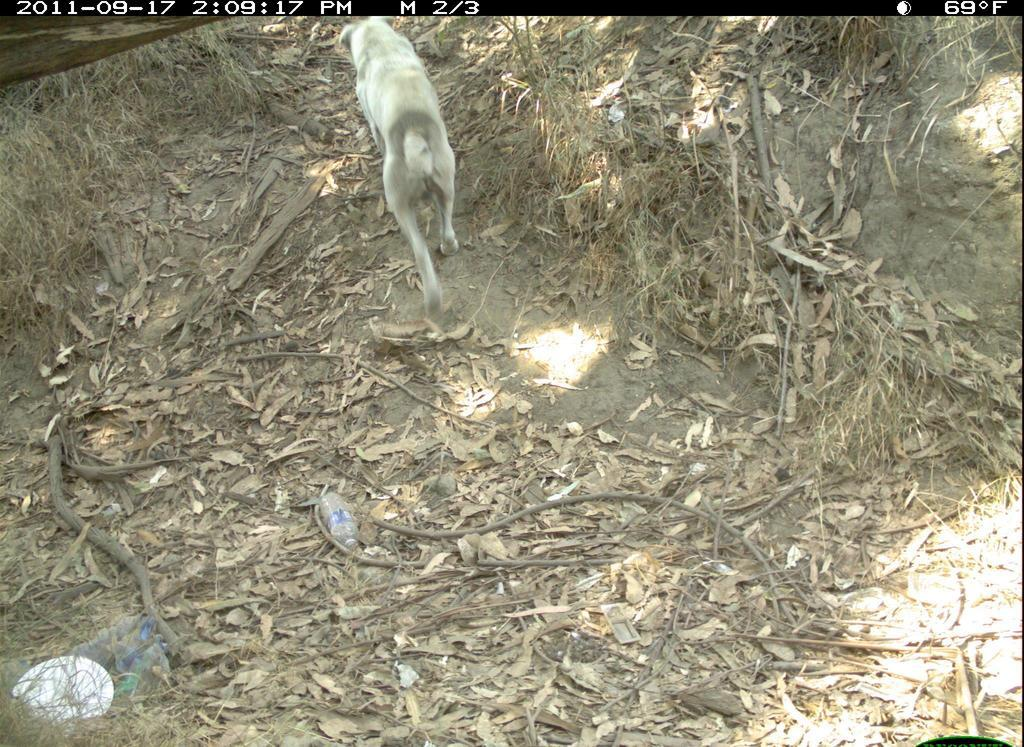dog: (326, 16, 477, 329)
